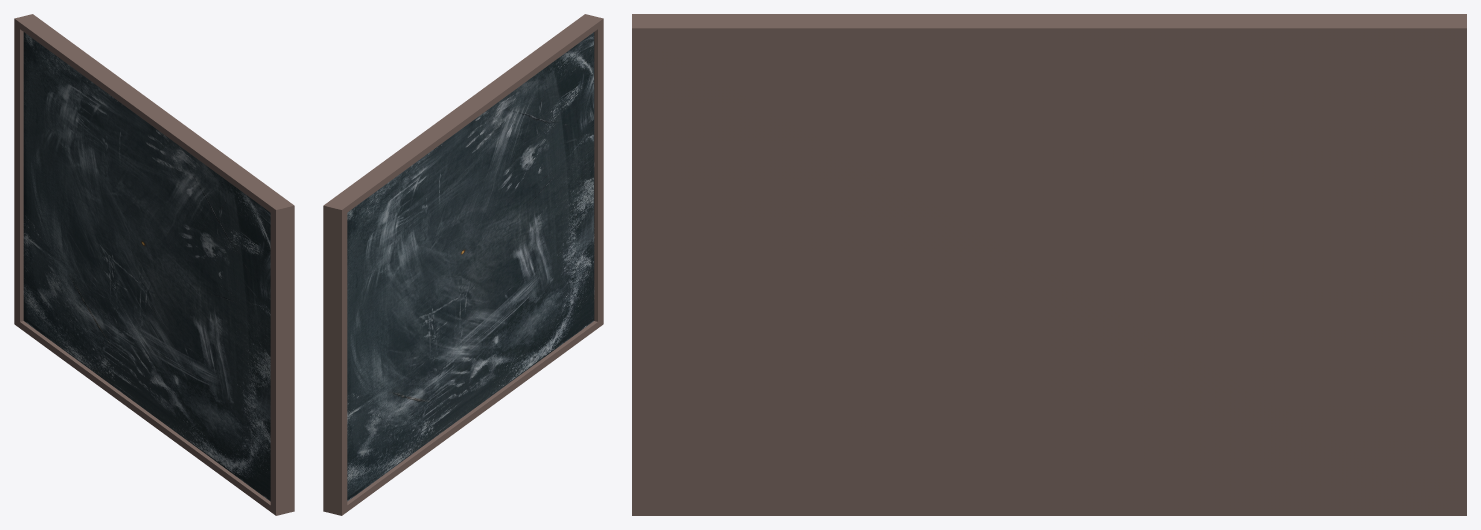
File: Tablero.fbx
3 views of the same model, side by side, from view 1: azimuth 30°, elevation 25°; view 2: azimuth 150°, elevation 25°; view 3: azimuth 270°, elevation 25° (orthographic). The views are drawn at different scales.
Visible parts, largest first — view 1: Tablero; view 2: Tablero; view 3: Tablero.
Part boxes in pixels (left/top/right/bottom): Tablero: left=14, top=14, right=294, bottom=515; Tablero: left=323, top=14, right=603, bottom=515; Tablero: left=632, top=14, right=1466, bottom=515.
Size of the model in its own units: 35.18 by 555 by 862.
2 materials, 1 textured.
